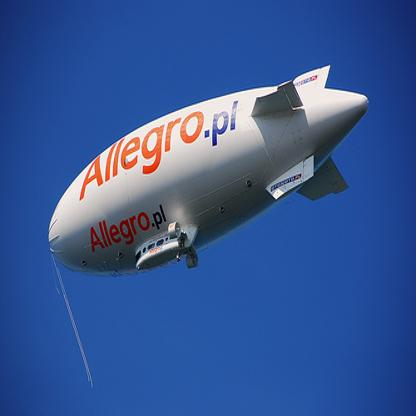Airship: (47, 66, 370, 279)
